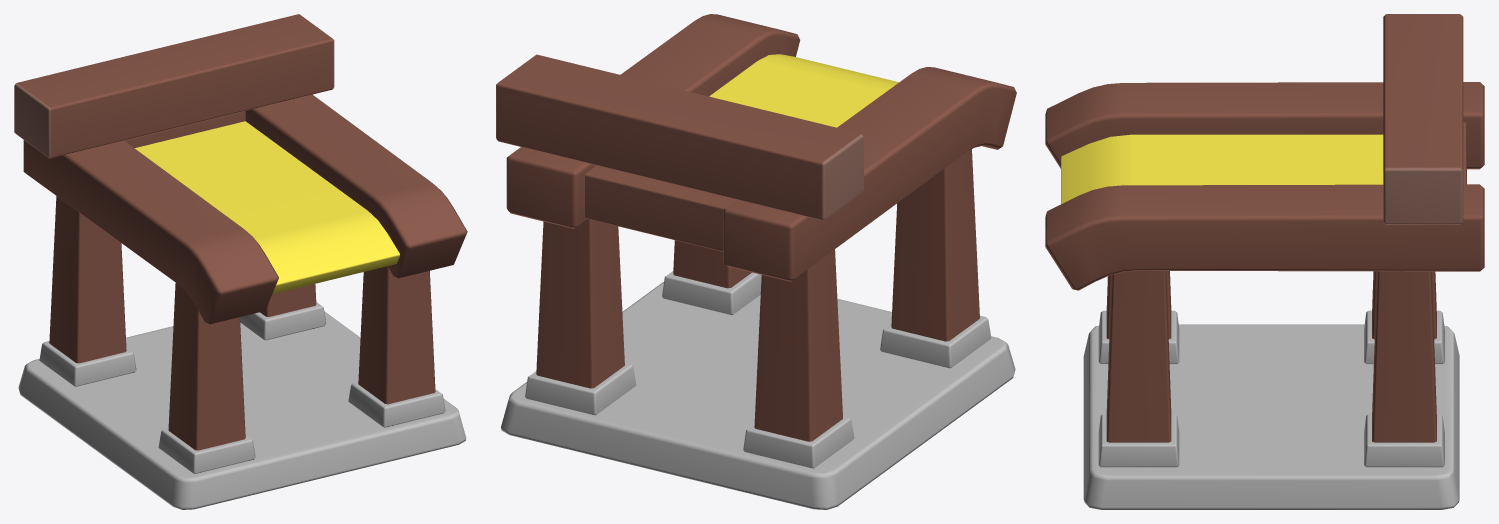
Rendered from Farm_3_Warehouse_1.glb.
3 views of the same model, side by side, from view 1: azimuth 30°, elevation 25°; view 2: azimuth 150°, elevation 25°; view 3: azimuth 270°, elevation 25° (orthographic). The views are drawn at different scales.
Visible parts, largest first — view 1: Farm_3_Warehouse_1; view 2: Farm_3_Warehouse_1; view 3: Farm_3_Warehouse_1.
Boxes of the visible parts, x1=… form: Farm_3_Warehouse_1: x1=14, y1=14, x2=467, y2=509; Farm_3_Warehouse_1: x1=496, y1=14, x2=1016, y2=509; Farm_3_Warehouse_1: x1=1045, y1=14, x2=1484, y2=509.
Bounding box in the file's own units: 4.12 × 4.13 × 4.82.
Materials: 1 (1 with a texture image).
